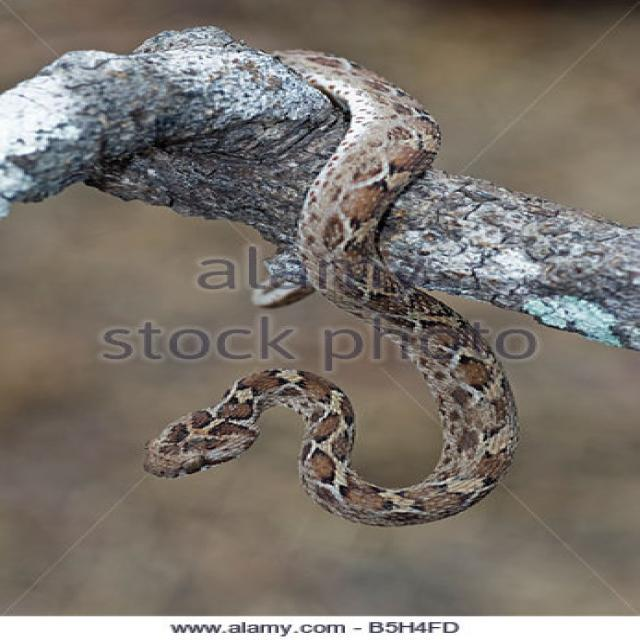Snake: (140, 46, 520, 528)
